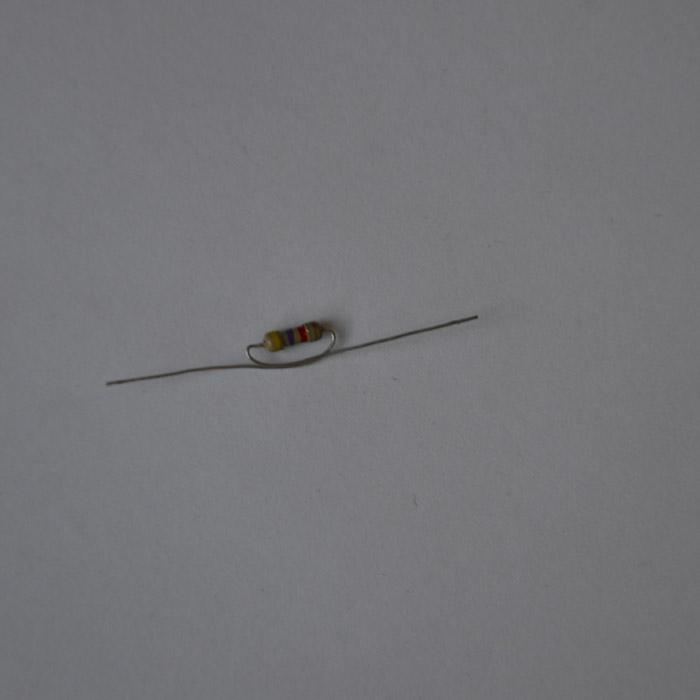resistor: (260, 321, 326, 352)
